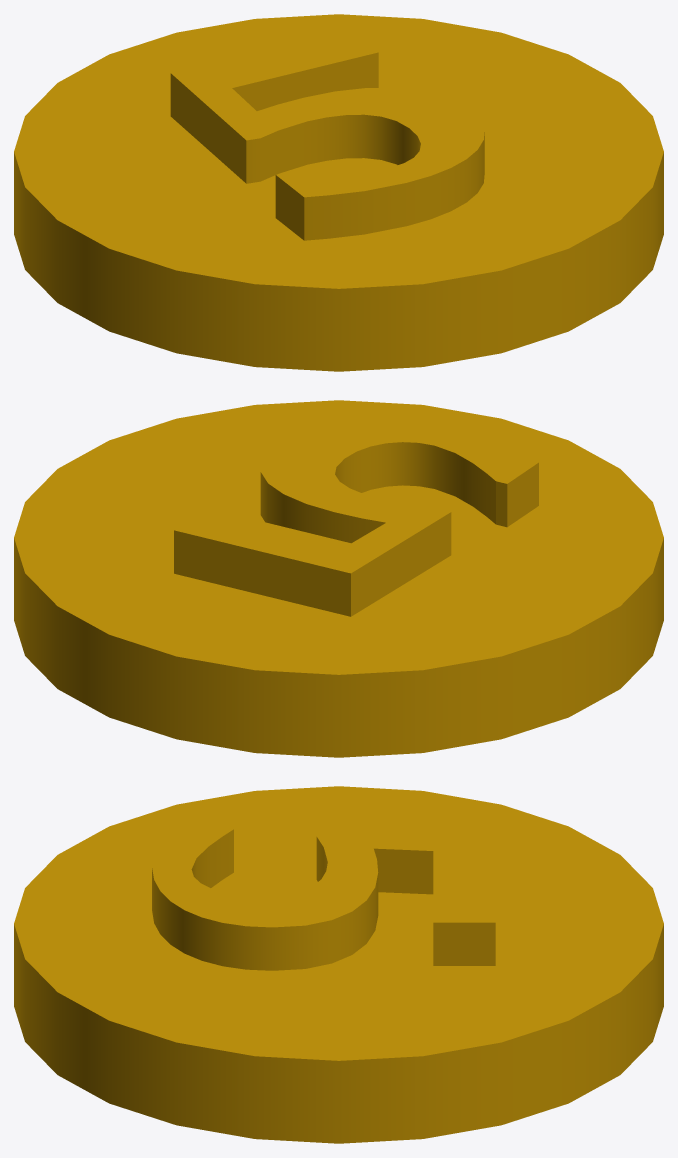
The picture shows the model from 3 angles, top to bottom: view 1: azimuth 30°, elevation 25°; view 2: azimuth 150°, elevation 25°; view 3: azimuth 270°, elevation 25°; orthographic projection.
Visible parts, largest first — view 1: Group1, G_5_1; view 2: Group1, G_5_1; view 3: Group1, G_5_1.
Part boxes in pixels (x1=…): Group1: x1=14, y1=14, x2=663, y2=371; G_5_1: x1=170, y1=30, x2=484, y2=240; Group1: x1=14, y1=400, x2=663, y2=757; G_5_1: x1=174, y1=422, x2=538, y2=616; Group1: x1=14, y1=786, x2=663, y2=1143; G_5_1: x1=152, y1=823, x2=495, y2=970.
Size of the model in its own units: 4 by 0.8569 by 4.
